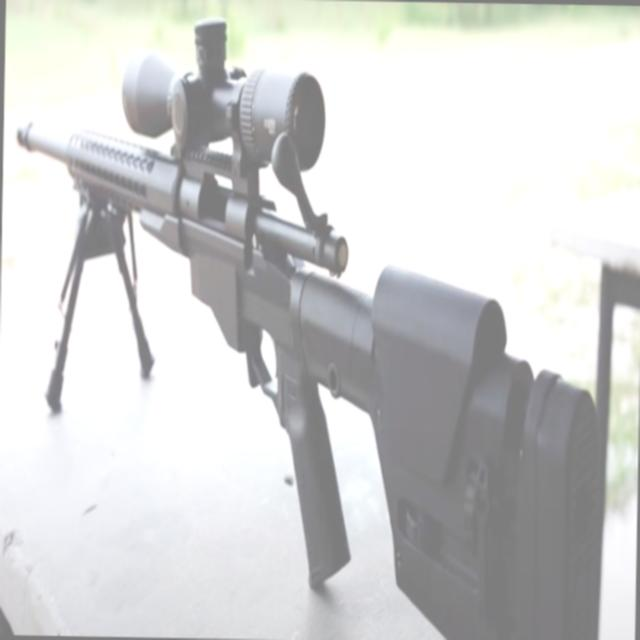rifle: (5, 12, 619, 640)
